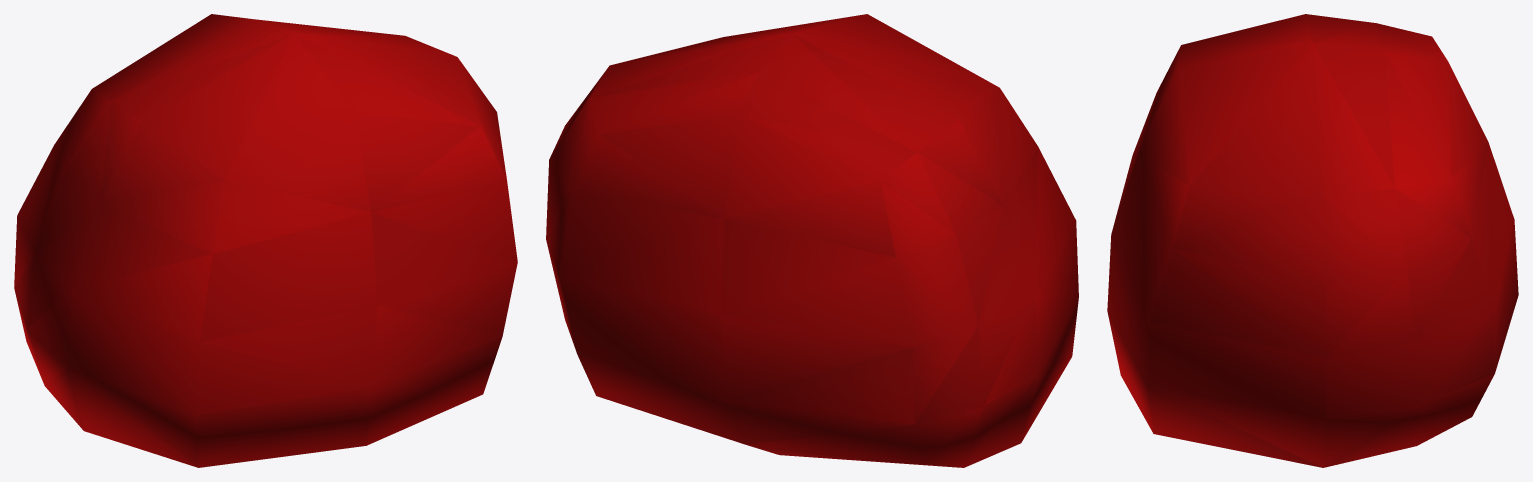
The model's file is geology-pebbles-smallsandchunk_v2.fbx.
3 views of the same model, side by side, from view 1: azimuth 30°, elevation 25°; view 2: azimuth 150°, elevation 25°; view 3: azimuth 270°, elevation 25° (orthographic). The views are drawn at different scales.
Visible parts, largest first — view 1: SmallSandChunk_v2; view 2: SmallSandChunk_v2; view 3: SmallSandChunk_v2.
Part boxes in pixels (x1,y1,x2,y2): SmallSandChunk_v2: (14, 14, 517, 467); SmallSandChunk_v2: (546, 14, 1078, 467); SmallSandChunk_v2: (1107, 14, 1518, 467).
Bounding box in the file's own units: 3.2 × 2.55 × 2.55.
